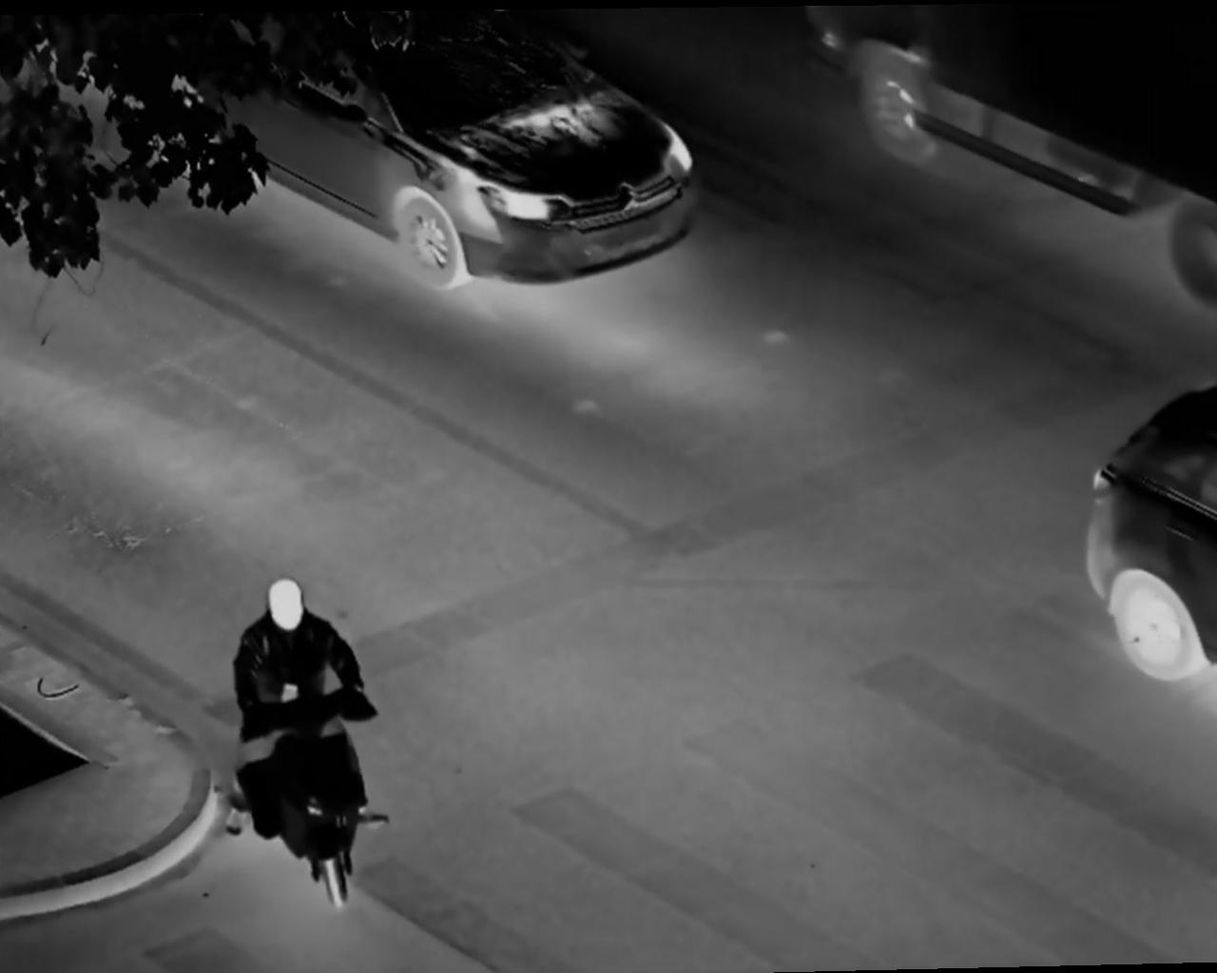person: (227, 578, 365, 812)
